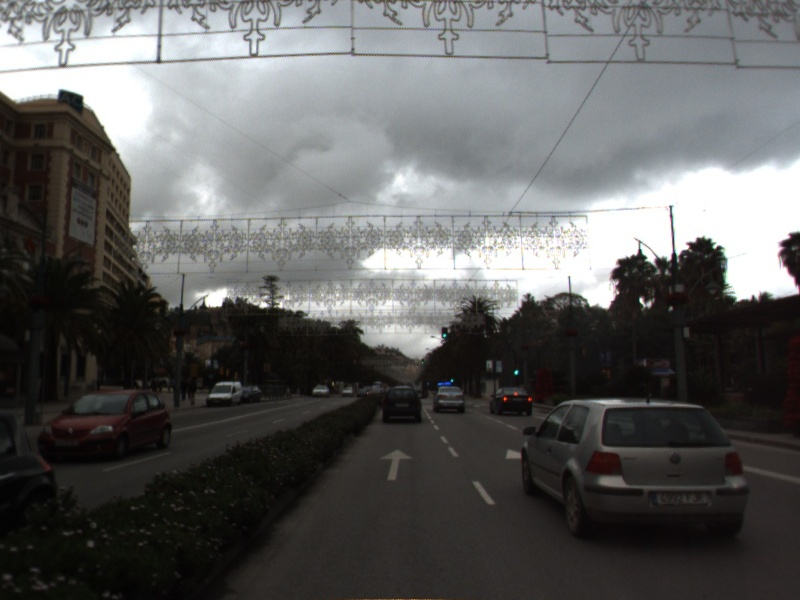STRAIGHT: (378, 447, 416, 482)
